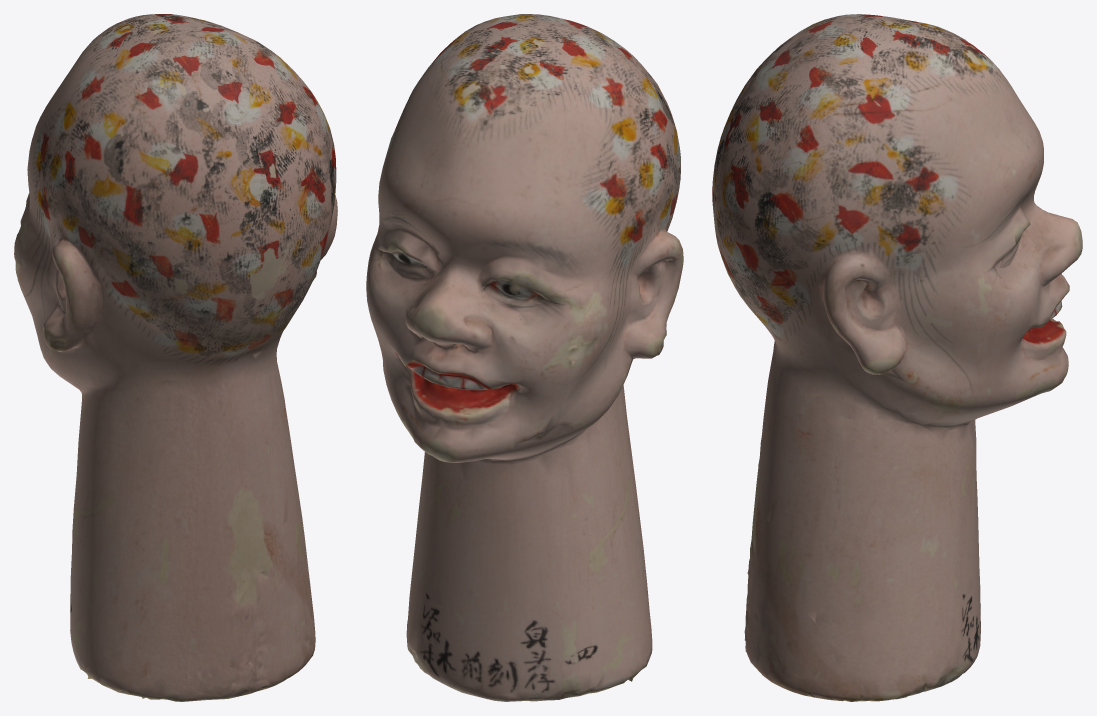
The model's file is MTY000224.glb.
3 views of the same model, side by side, from view 1: azimuth 30°, elevation 25°; view 2: azimuth 150°, elevation 25°; view 3: azimuth 270°, elevation 25° (orthographic).
Parts seen in each view (by area): view 1: MTY000224; view 2: MTY000224; view 3: MTY000224.
Boxes of the visible parts, x1,y1,x2,y2 form: MTY000224: [14, 14, 337, 701]; MTY000224: [366, 14, 683, 701]; MTY000224: [712, 14, 1082, 701].
Size of the model in its own units: 22.21 by 48.69 by 26.16.
Materials: 1 (1 with a texture image).
